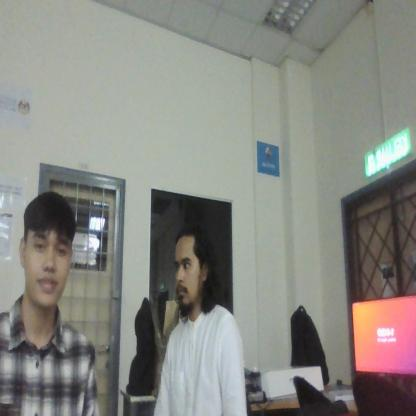Open-Eyes: (28, 232, 71, 264), (172, 248, 195, 280)
